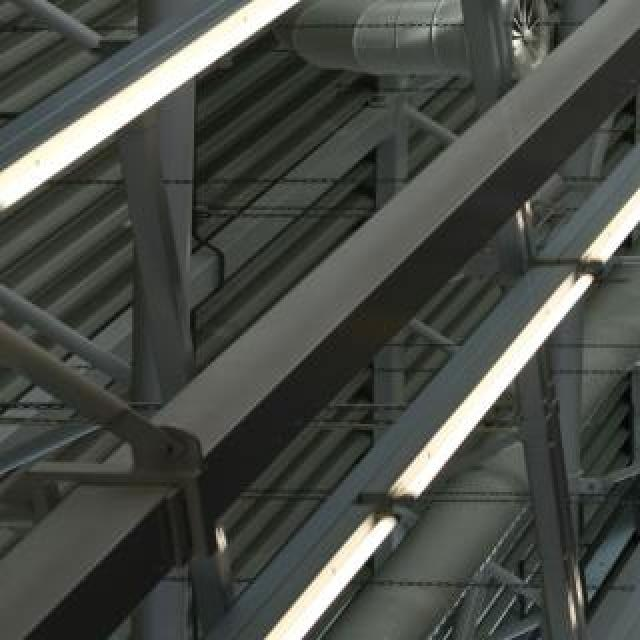fluorescent tube: (0, 0, 342, 264), (360, 258, 624, 513), (253, 465, 445, 640), (540, 86, 640, 312), (608, 446, 640, 640), (300, 0, 548, 4)
